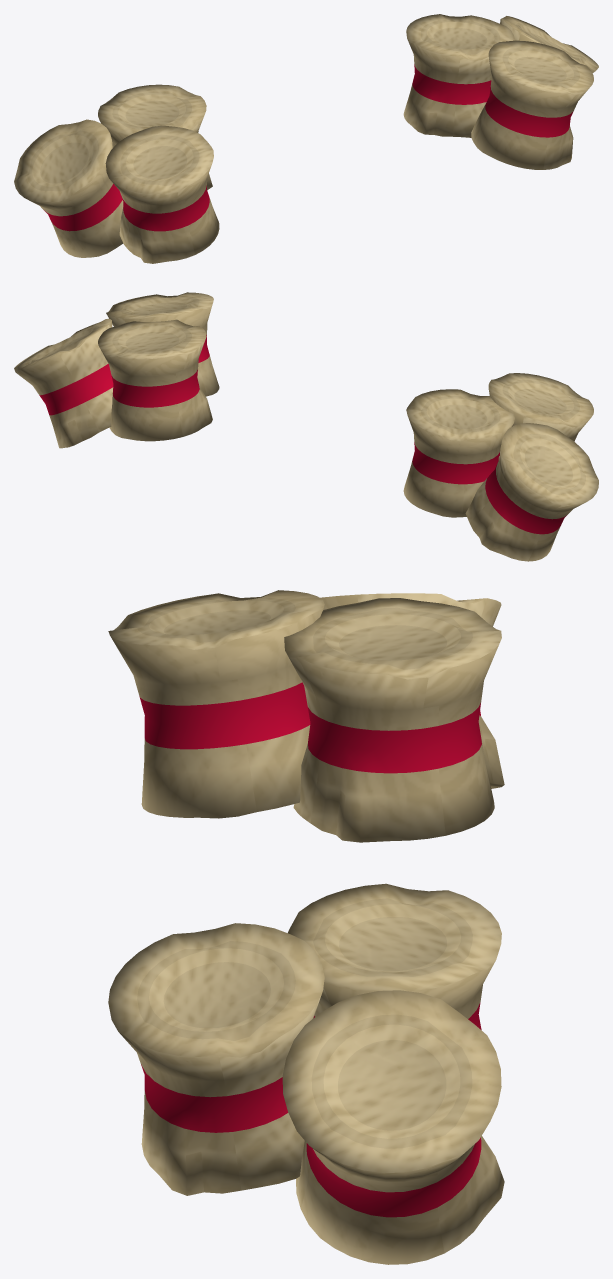
File: item-bales.glb
The picture shows the model from 3 angles, top to bottom: view 1: azimuth 30°, elevation 25°; view 2: azimuth 150°, elevation 25°; view 3: azimuth 270°, elevation 25°; orthographic projection. The views are drawn at different scales.
Bounding box in the file's own units: 1.09 × 0.2303 × 0.3278.
3 materials, 2 textured.
